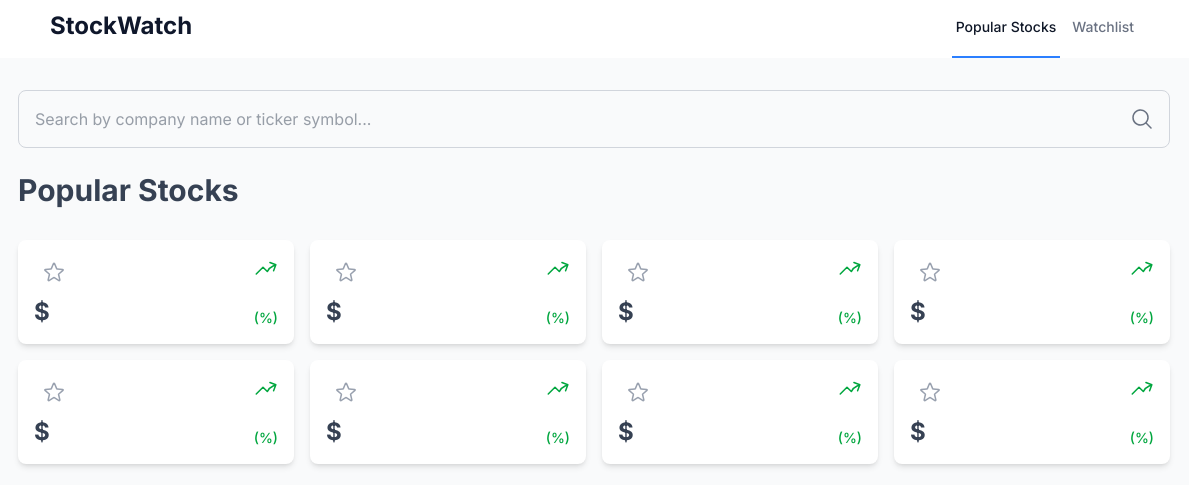
Home Page › allows searching for stocks
Step 1. Type "AAPL" into the field with placeholder "Search by company name or ticker symbol..." → (594, 119), box [18,90,1170,148]
Then press Enter
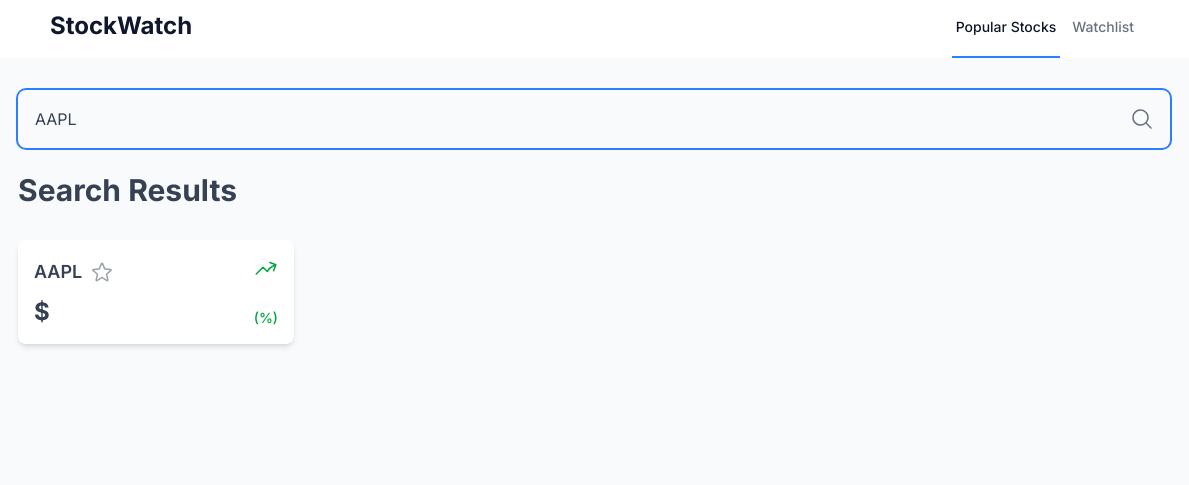
Check: the heading "Search Results" is shown, box [18,172,237,208]
Check: the element with test id "stock-card" is shown, box [18,240,294,344]
Check: the heading with test id "stock-card" reads "AAPL", box [34,261,82,282]
